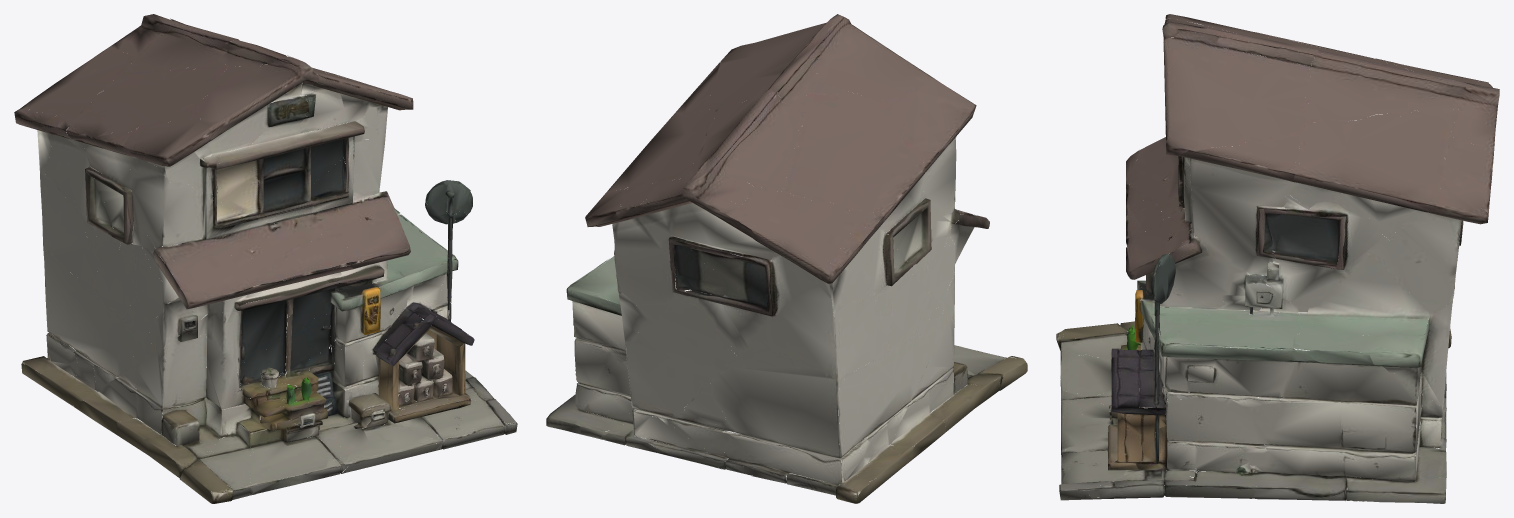
Rendered from building7.glb.
The picture shows the model from 3 angles, left to right: view 1: azimuth 30°, elevation 25°; view 2: azimuth 150°, elevation 25°; view 3: azimuth 270°, elevation 25°; orthographic projection. The views are drawn at different scales.
Parts seen in each view (by area): view 1: tripo_node_c286c937-96b2-4c8e-bdcc-417e03ccac6d; view 2: tripo_node_c286c937-96b2-4c8e-bdcc-417e03ccac6d; view 3: tripo_node_c286c937-96b2-4c8e-bdcc-417e03ccac6d.
Part boxes in pixels (box(x1,y1,x2,y2)): tripo_node_c286c937-96b2-4c8e-bdcc-417e03ccac6d: box(14, 14, 517, 503); tripo_node_c286c937-96b2-4c8e-bdcc-417e03ccac6d: box(546, 14, 1027, 503); tripo_node_c286c937-96b2-4c8e-bdcc-417e03ccac6d: box(1056, 14, 1499, 503).
Bounding box in the file's own units: 0.8921 × 0.9792 × 0.9996.
1 material, 1 textured.
